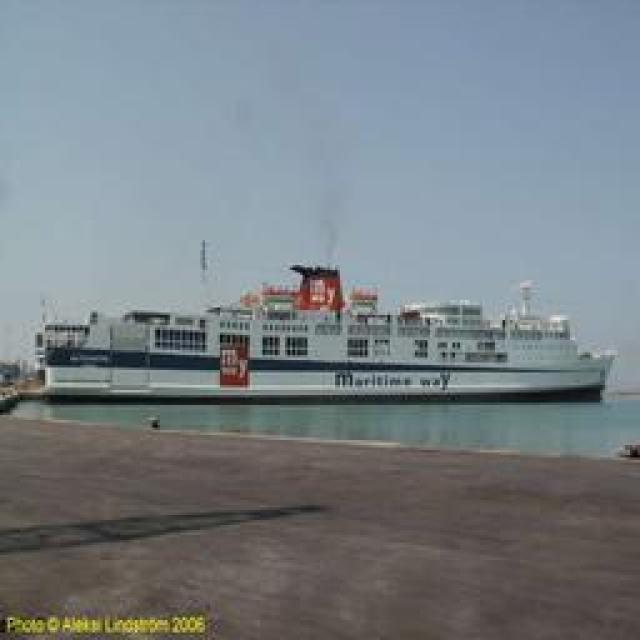CIV_Ship: (25, 252, 618, 402)
